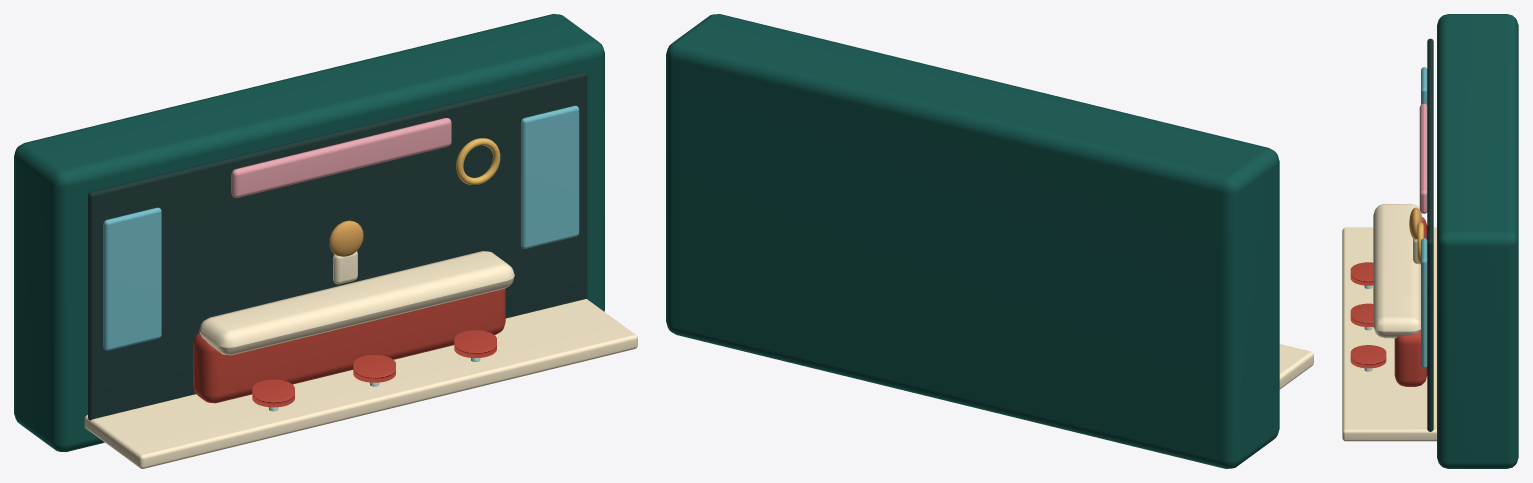
3 views of the same model, side by side, from view 1: azimuth 30°, elevation 25°; view 2: azimuth 150°, elevation 25°; view 3: azimuth 270°, elevation 25° (orthographic). The views are drawn at different scales.
Parts seen in each view (by area): view 1: Midnight interior, Diorama shadow box, Tiny diner floor, Mini counter front, Neon window, After hours sign, Tiny cook, Clock, Tiny apron; view 2: Diorama shadow box, Tiny diner floor; view 3: Diorama shadow box, Tiny diner floor, Mini counter front, Midnight interior, Neon window, After hours sign, Tiny cook, Clock.
Boxes of the visible parts, <box> form: Midnight interior: <box>88,72,587,420</box>; Diorama shadow box: <box>14,14,604,451</box>; Tiny diner floor: <box>84,251,637,468</box>; Mini counter front: <box>193,288,505,407</box>; Neon window: <box>103,105,579,350</box>; After hours sign: <box>231,118,451,197</box>; Tiny cook: <box>329,220,363,256</box>; Clock: <box>456,138,500,184</box>; Tiny apron: <box>333,251,357,284</box>; Diorama shadow box: <box>666,14,1279,468</box>; Tiny diner floor: <box>1279,344,1313,389</box>; Diorama shadow box: <box>1437,14,1518,468</box>; Tiny diner floor: <box>1342,204,1436,441</box>; Mini counter front: <box>1350,217,1427,386</box>; Midnight interior: <box>1427,38,1433,431</box>; Neon window: <box>1421,67,1427,368</box>; After hours sign: <box>1419,103,1427,213</box>; Tiny cook: <box>1409,207,1422,239</box>; Clock: <box>1417,222,1423,264</box>.
Size of the model in its own units: 1.64 by 0.8 by 0.54.
